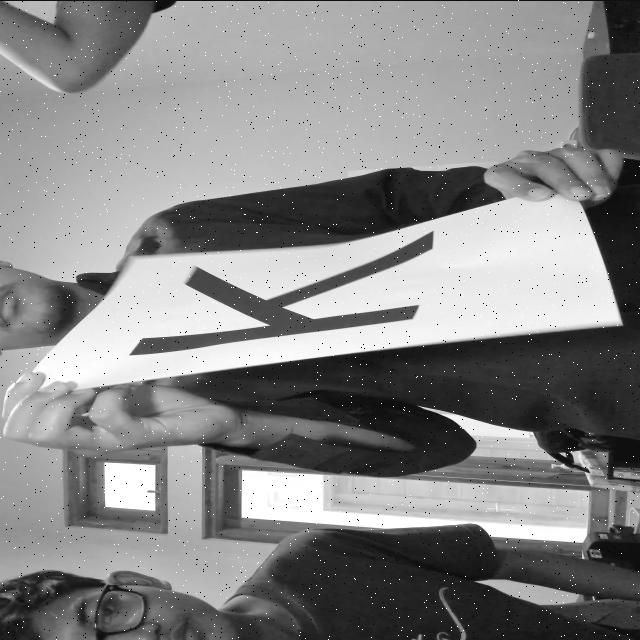k: (107, 230, 452, 378)
